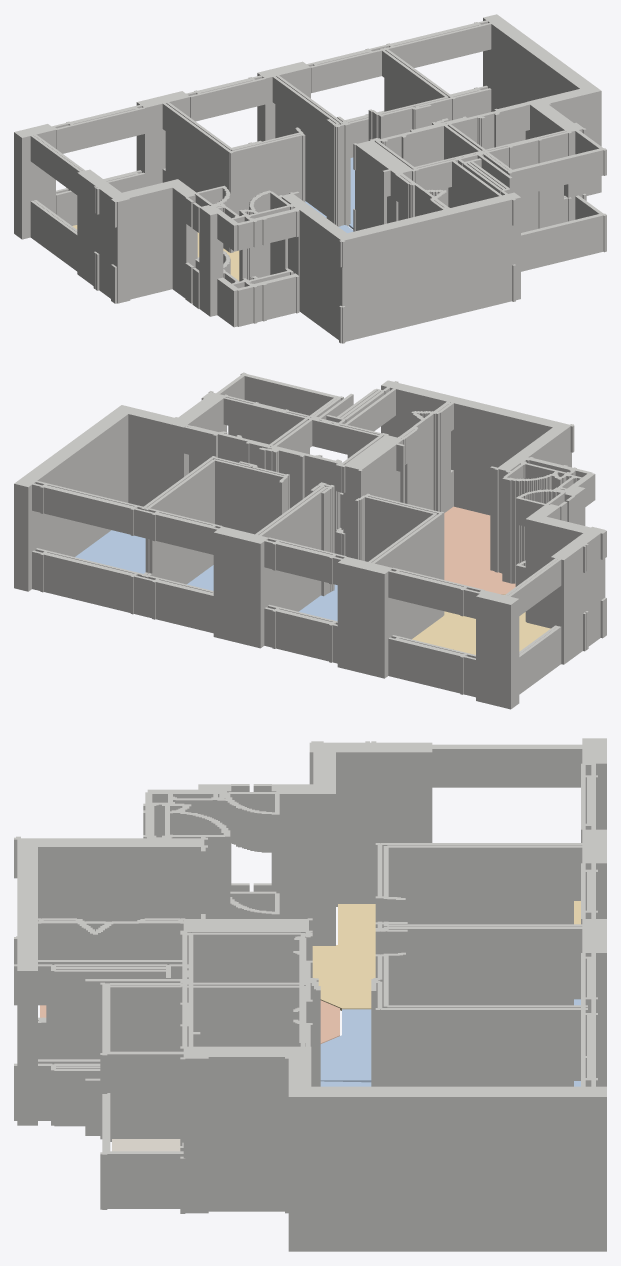
The picture shows the model from 3 angles, top to bottom: view 1: azimuth 30°, elevation 25°; view 2: azimuth 150°, elevation 25°; view 3: azimuth 270°, elevation 25°; orthographic projection. The views are drawn at different scales.
Visible parts, largest first — view 1: walls; view 2: walls, room:kitchen:5, room:living:1, room:bedroom:6, room:bedroom:2; view 3: walls, room:living:1, room:bedroom:2, room:other:13, room:kitchen:5.
Boxes of the visible parts, x1,y1,x2,y2 form: walls: (14, 14, 606, 343); walls: (14, 372, 606, 709); room:kitchen:5: (444, 506, 515, 594); room:living:1: (412, 594, 550, 654); room:bedroom:6: (75, 530, 145, 573); room:bedroom:2: (299, 584, 337, 621); walls: (14, 738, 606, 1251); room:living:1: (312, 904, 375, 1010); room:bedroom:2: (320, 999, 580, 1082); room:other:13: (112, 1139, 180, 1151); room:kitchen:5: (40, 1000, 339, 1043).
Bounding box in the file's own units: 13.93 × 2.8 × 9.74.
